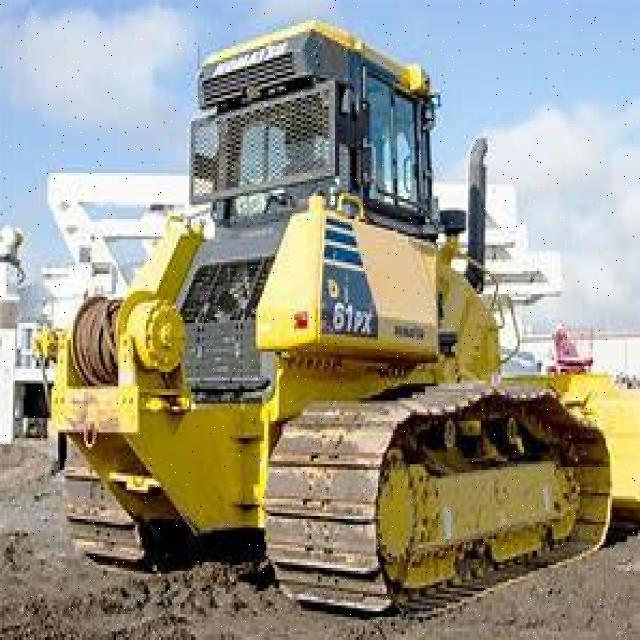Bulldozer: (30, 0, 640, 608)
